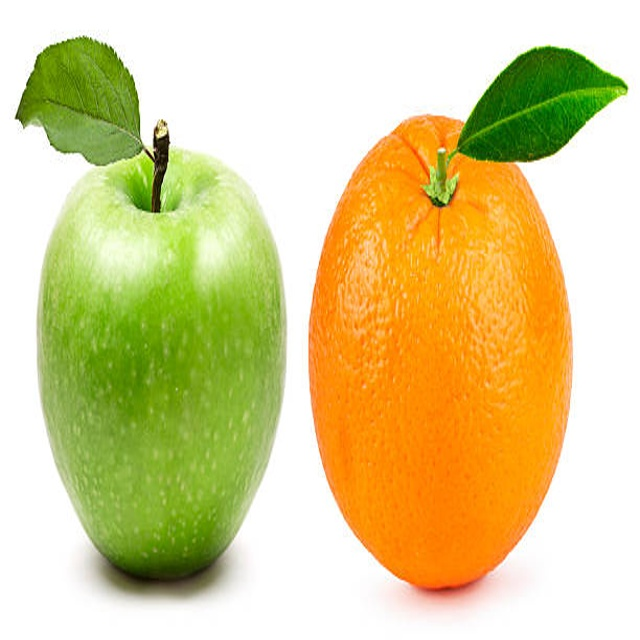apple: (32, 143, 292, 602)
orange: (298, 100, 622, 605)
